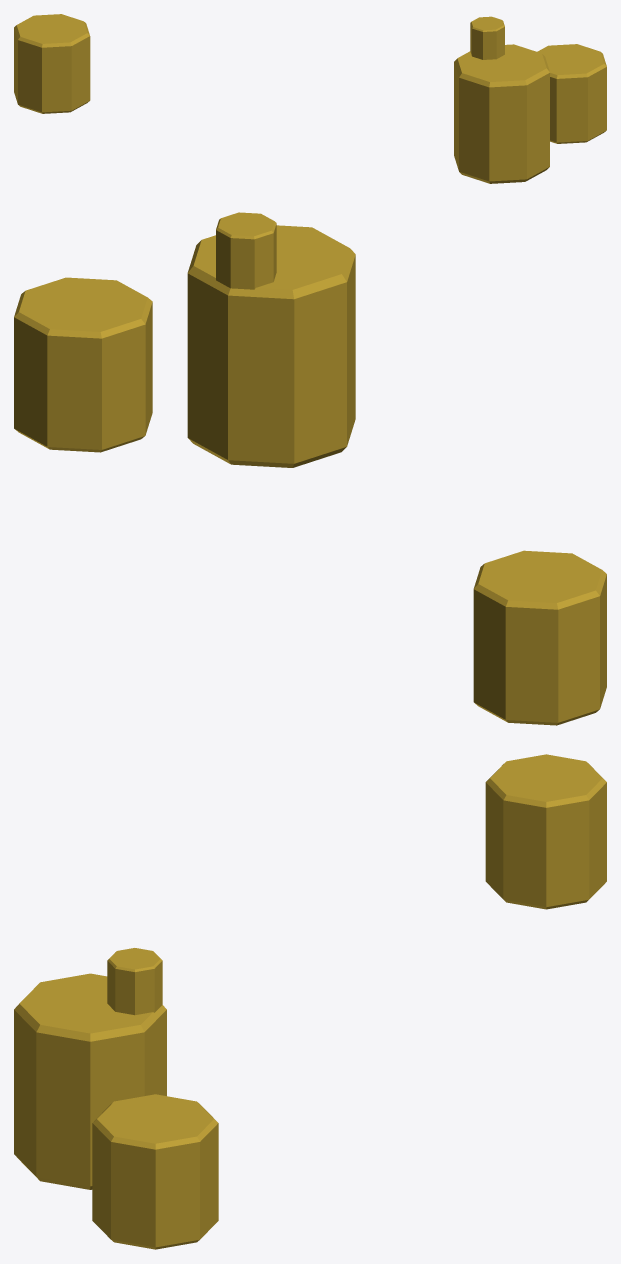
Rendered from cylindres.fbx.
3 views of the same model, one above another, from view 1: azimuth 30°, elevation 25°; view 2: azimuth 150°, elevation 25°; view 3: azimuth 270°, elevation 25° (orthographic). The views are drawn at different scales.
Visible parts, largest first — view 1: Cylinder124; view 2: Cylinder124; view 3: Cylinder124.
Boxes of the visible parts, x1,y1,x2,y2 form: Cylinder124: (14,14,606,183); Cylinder124: (14,212,606,725); Cylinder124: (14,754,606,1249).
Size of the model in its own units: 361 by 98.7 by 263.
